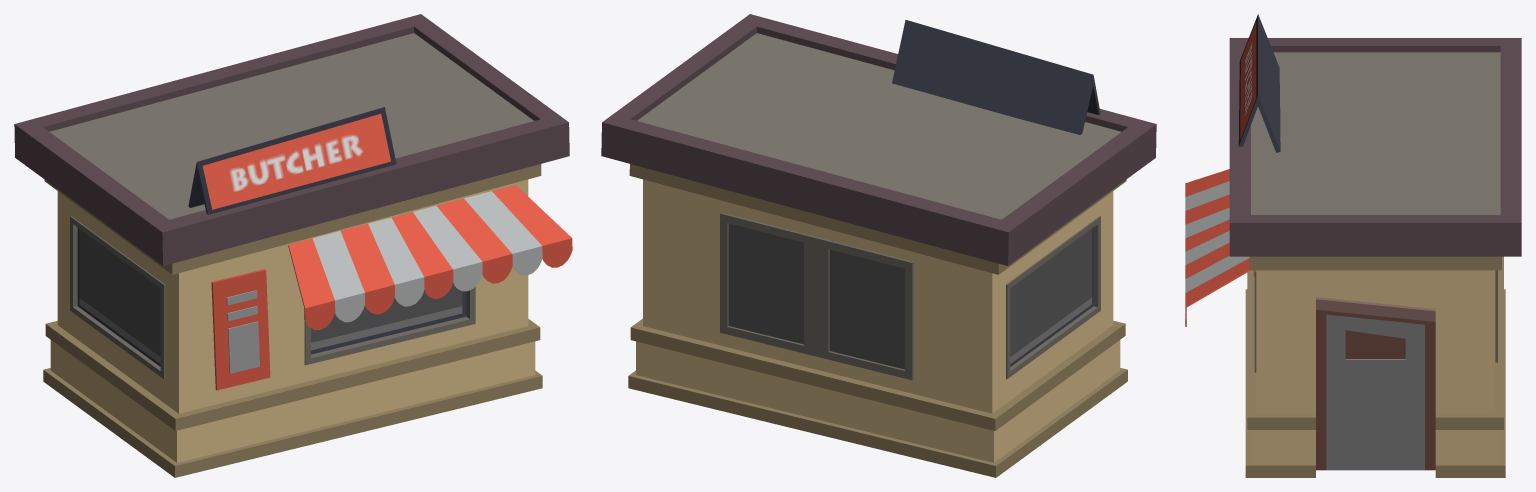
File: butcher03_color02.fbx
3 views of the same model, side by side, from view 1: azimuth 30°, elevation 25°; view 2: azimuth 150°, elevation 25°; view 3: azimuth 270°, elevation 25° (orthographic).
Parts seen in each view (by area): view 1: butcher03_color02; view 2: butcher03_color02; view 3: butcher03_color02.
Boxes of the visible parts, x1=… form: butcher03_color02: x1=14, y1=14, x2=572, y2=477; butcher03_color02: x1=601, y1=14, x2=1156, y2=477; butcher03_color02: x1=1185, y1=14, x2=1521, y2=477.
Size of the model in its own units: 805 by 592 by 584.
